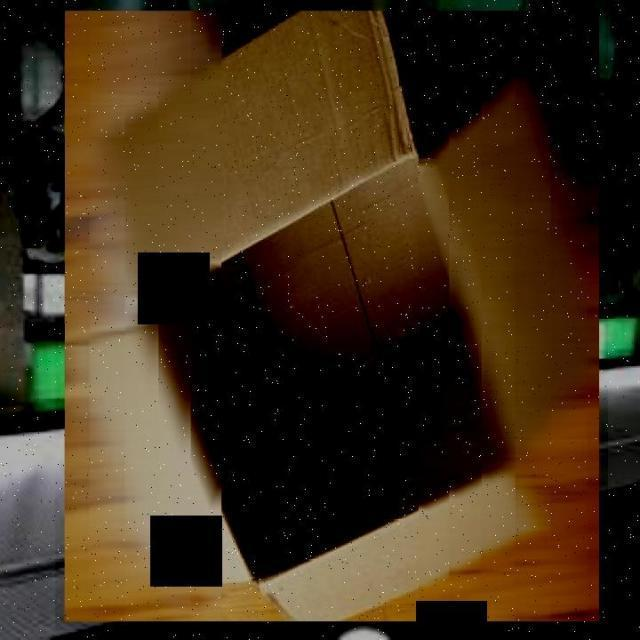box: (55, 0, 608, 631)
